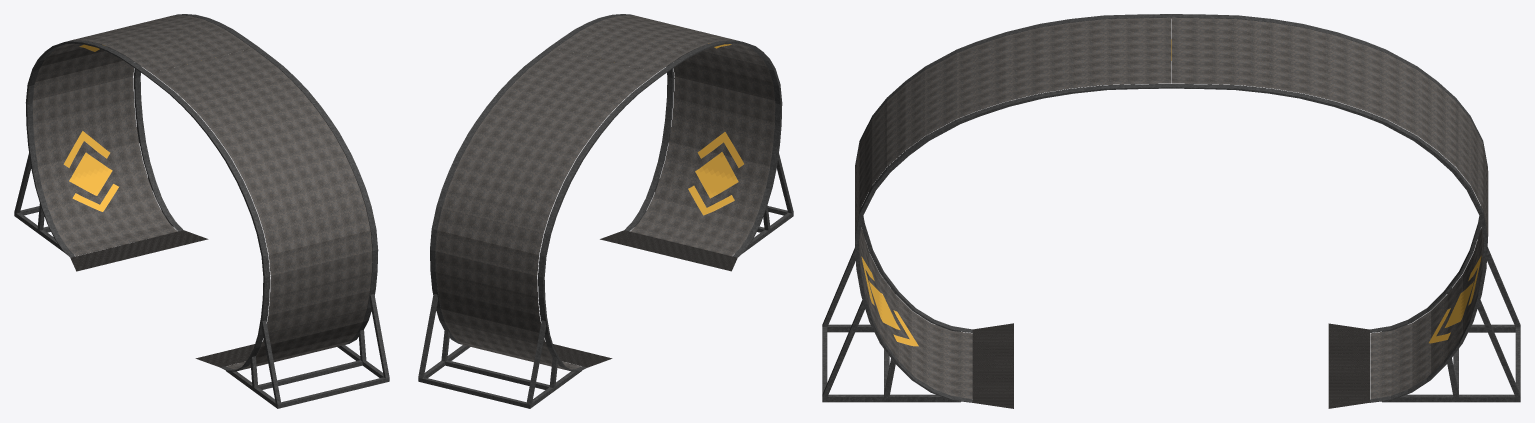
File: Loop 2.fbx
3 views of the same model, side by side, from view 1: azimuth 30°, elevation 25°; view 2: azimuth 150°, elevation 25°; view 3: azimuth 270°, elevation 25° (orthographic). The views are drawn at different scales.
Visible parts, largest first — view 1: Loop, Body 1, Body, Piano, Yellow arrow 2; view 2: Loop, Body 1, Body, Piano, Yellow arrow 2; view 3: Loop, Body 1, Body, Piano, Yellow arrow 2.
Boxes of the visible parts, box(x1,y1,x2,y2) form: Loop: box(32, 15, 372, 369); Body 1: box(25, 14, 378, 371); Body: box(14, 127, 389, 408); Piano: box(70, 230, 262, 367); Yellow arrow 2: box(63, 131, 118, 211); Loop: box(435, 15, 775, 369); Body 1: box(430, 14, 782, 371); Body: box(418, 127, 793, 408); Piano: box(545, 230, 737, 367); Yellow arrow 2: box(688, 132, 743, 215); Loop: box(855, 17, 1488, 398); Body 1: box(855, 14, 1487, 402); Body: box(822, 230, 1520, 402); Piano: box(972, 323, 1369, 408); Yellow arrow 2: box(861, 255, 1481, 346).
Bounding box in the file's own units: 931 × 1601 × 3210.
